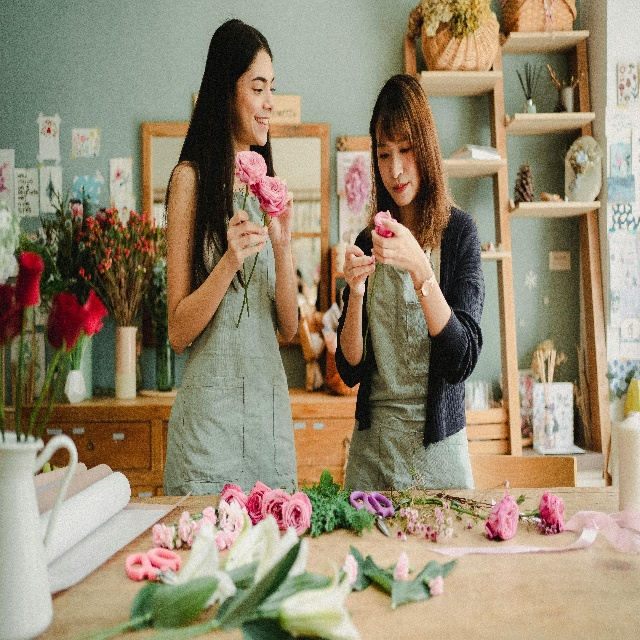Sin_guantes: (370, 218, 420, 274), (227, 209, 269, 272), (265, 182, 295, 244), (344, 241, 376, 296)
